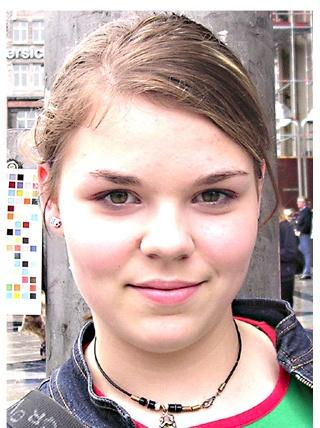No Mask: (33, 11, 284, 360)
